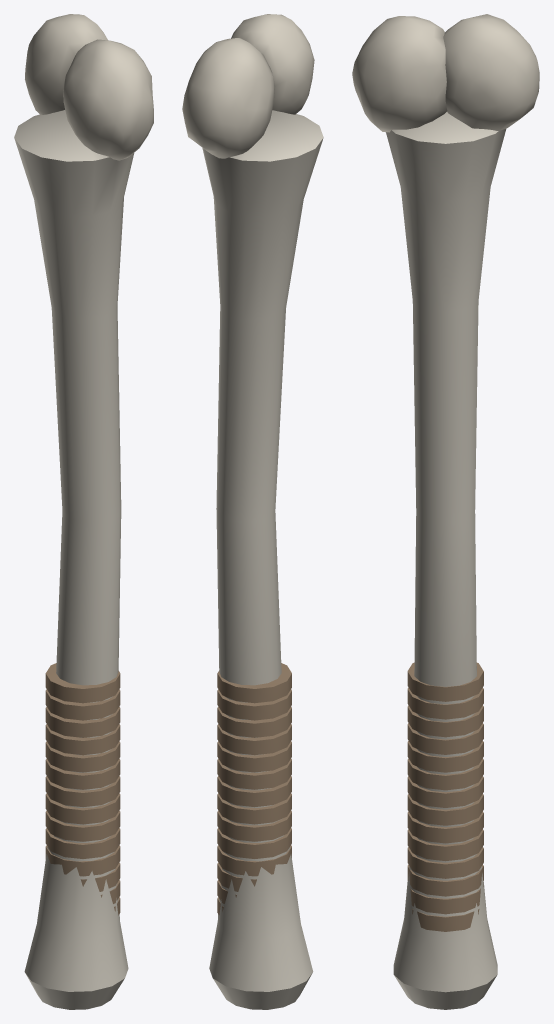
File: bone-club.glb
The picture shows the model from 3 angles, left to right: view 1: azimuth 30°, elevation 25°; view 2: azimuth 150°, elevation 25°; view 3: azimuth 270°, elevation 25°; orthographic projection. The views are drawn at different scales.
Parts seen in each view (by area): view 1: Body_lod0; view 2: Body_lod0; view 3: Body_lod0.
Boxes of the visible parts, x1,y1,x2,y2 form: Body_lod0: (14, 14, 153, 1009); Body_lod0: (182, 14, 323, 1009); Body_lod0: (352, 14, 539, 1009).
Size of what is drawn, in the model's own units: 0.072 by 0.6157 by 0.1057.
